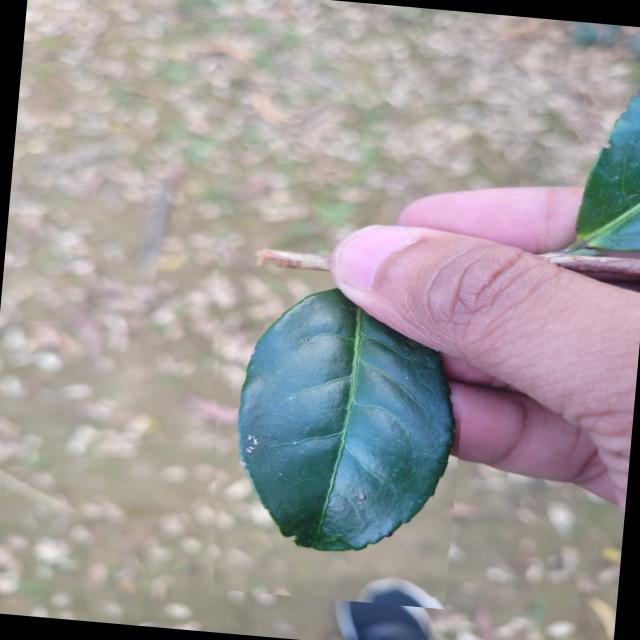Category D(7+ days, Not for Tea): (191, 253, 474, 609)
